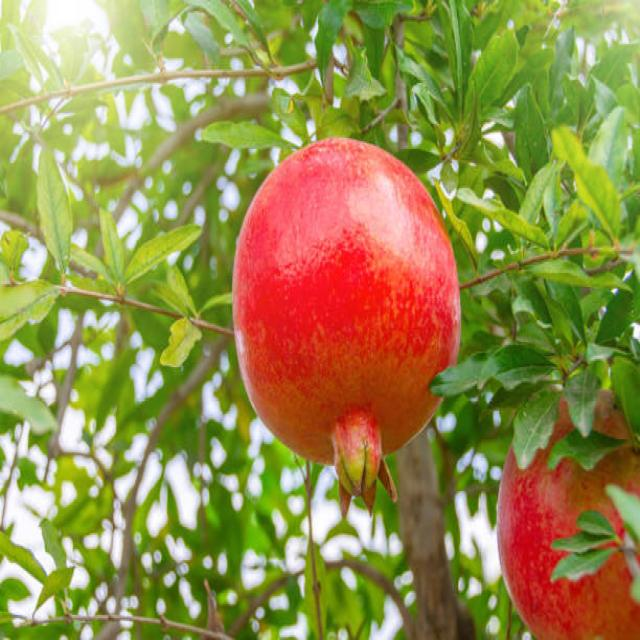Ripe: (230, 136, 461, 505)
